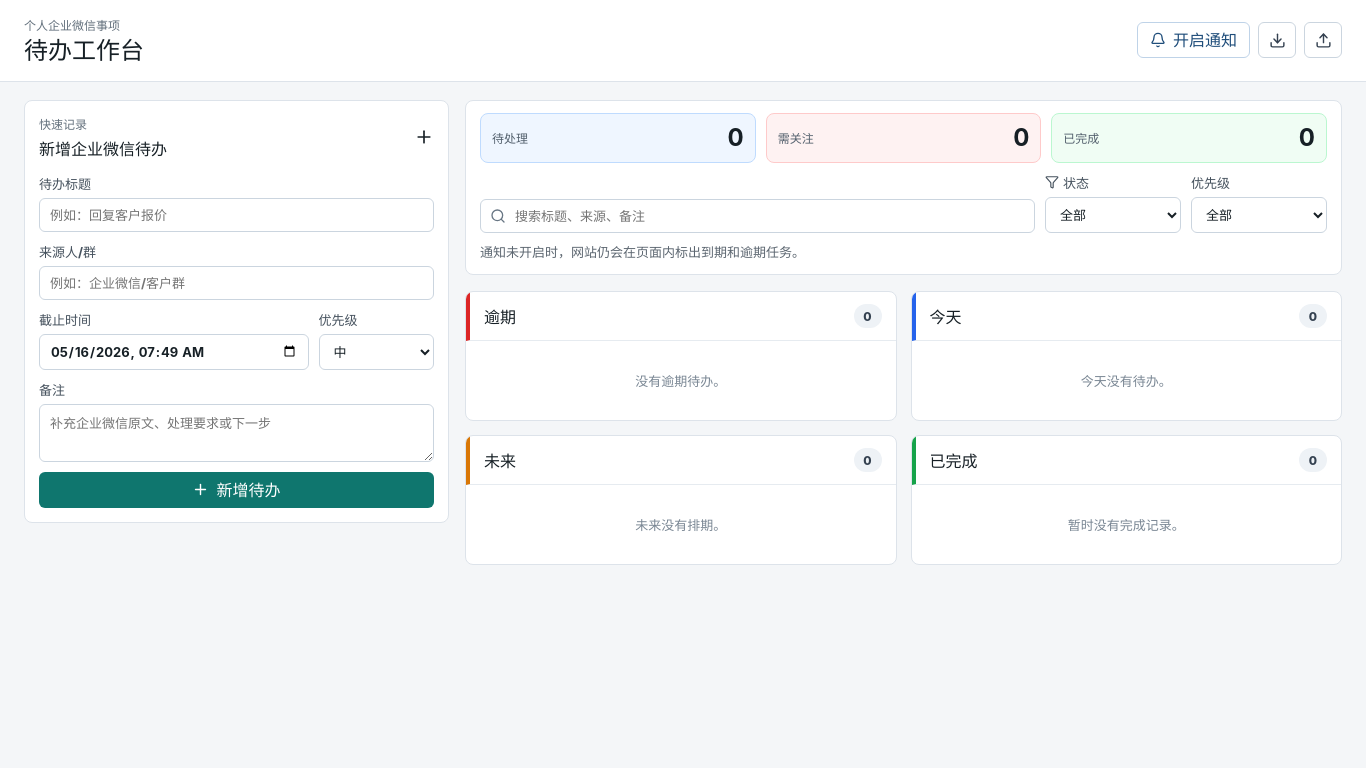
App › opens browser notification setting guidance after permission is denied
This screenshot has width=1366, height=768.
Click the button "开启通知" at (1194, 40), box [1137, 22, 1250, 58]
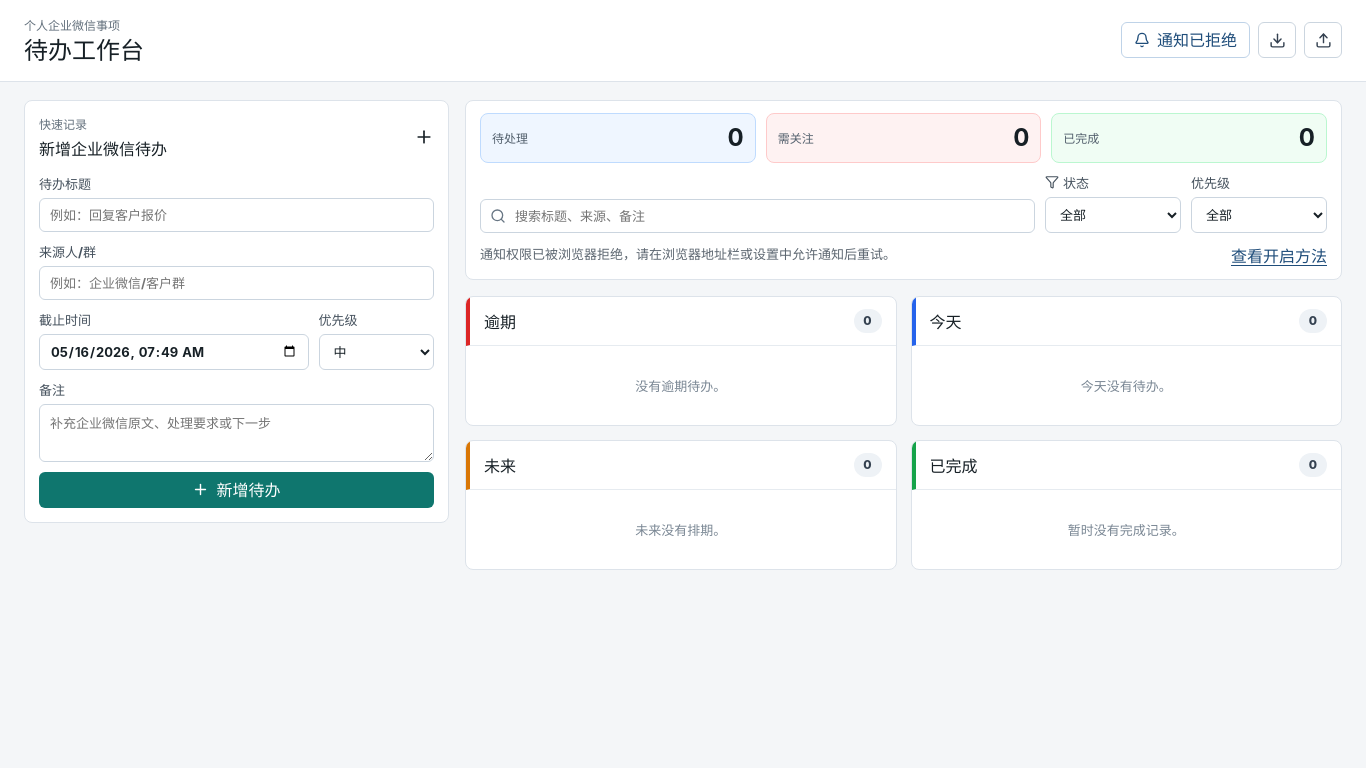
Click the button "查看开启方法" at (1279, 255), box [1231, 243, 1327, 267]
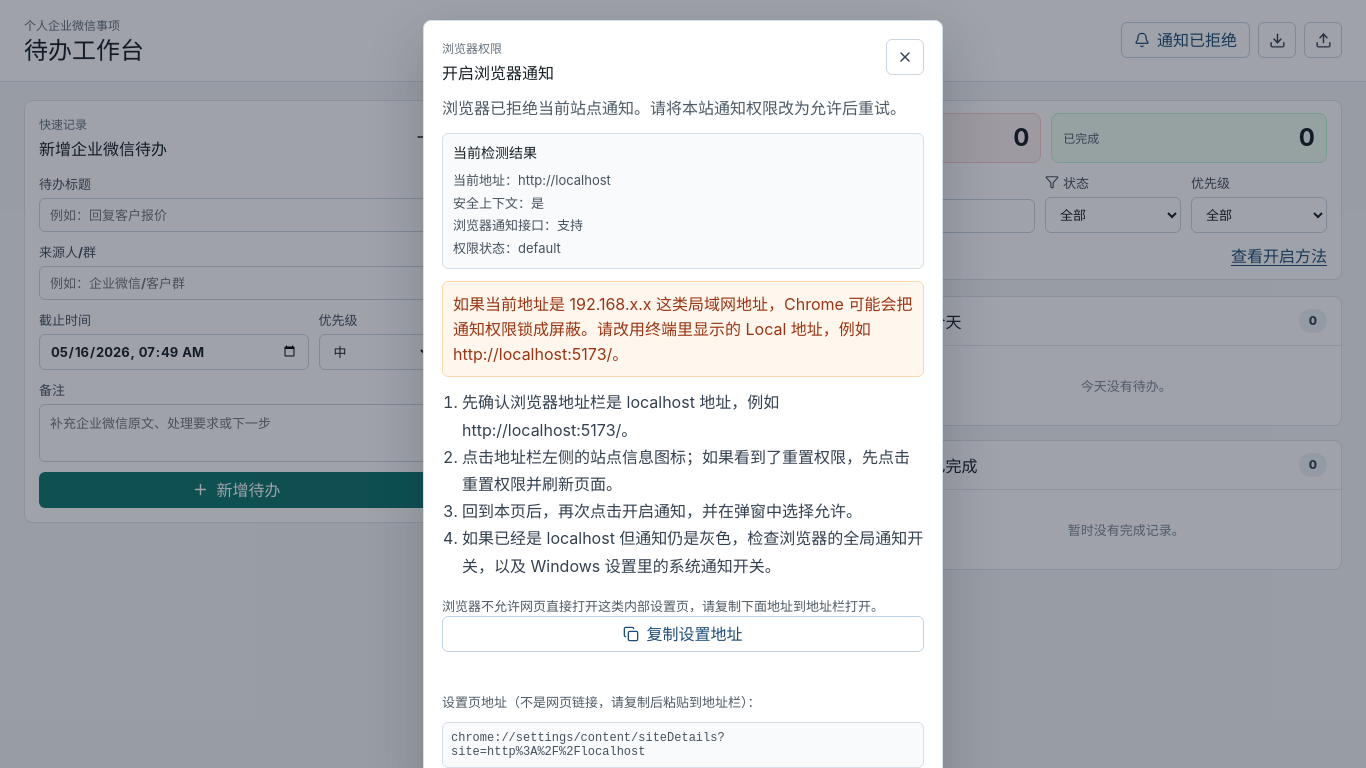
Now the text "浏览器不允许网页直接打开这类内部设置页，请复制下面地址到地址栏打开。" is shown, box [442, 596, 924, 616]
Now the text "如果当前地址是 192.168.x.x 这类局域网地址，Chrome 可能会把通知权限锁成屏蔽。请改用终端里显示的 Local 地址，例如 http://localhost:5173/。" is shown, box [453, 294, 912, 364]
Now the text "设置页地址（不是网页链接，请复制后粘贴到地址栏）：" is shown, box [442, 694, 760, 710]
Click the button "复制设置地址" at (683, 634), box [442, 616, 924, 652]
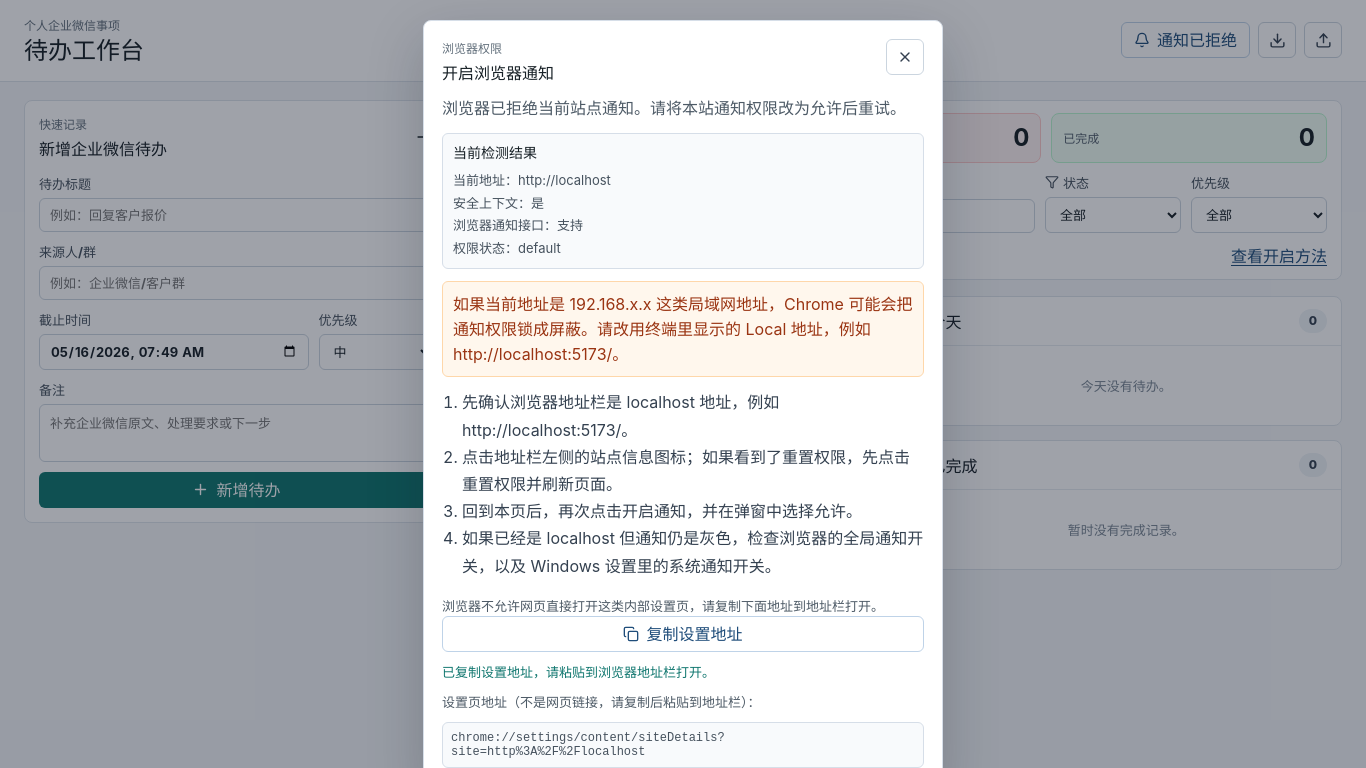
Now the text "已复制设置地址，请粘贴到浏览器地址栏打开。" is shown, box [442, 664, 715, 680]
Click the button named "关闭开启方法" at (905, 57), box [886, 39, 924, 75]
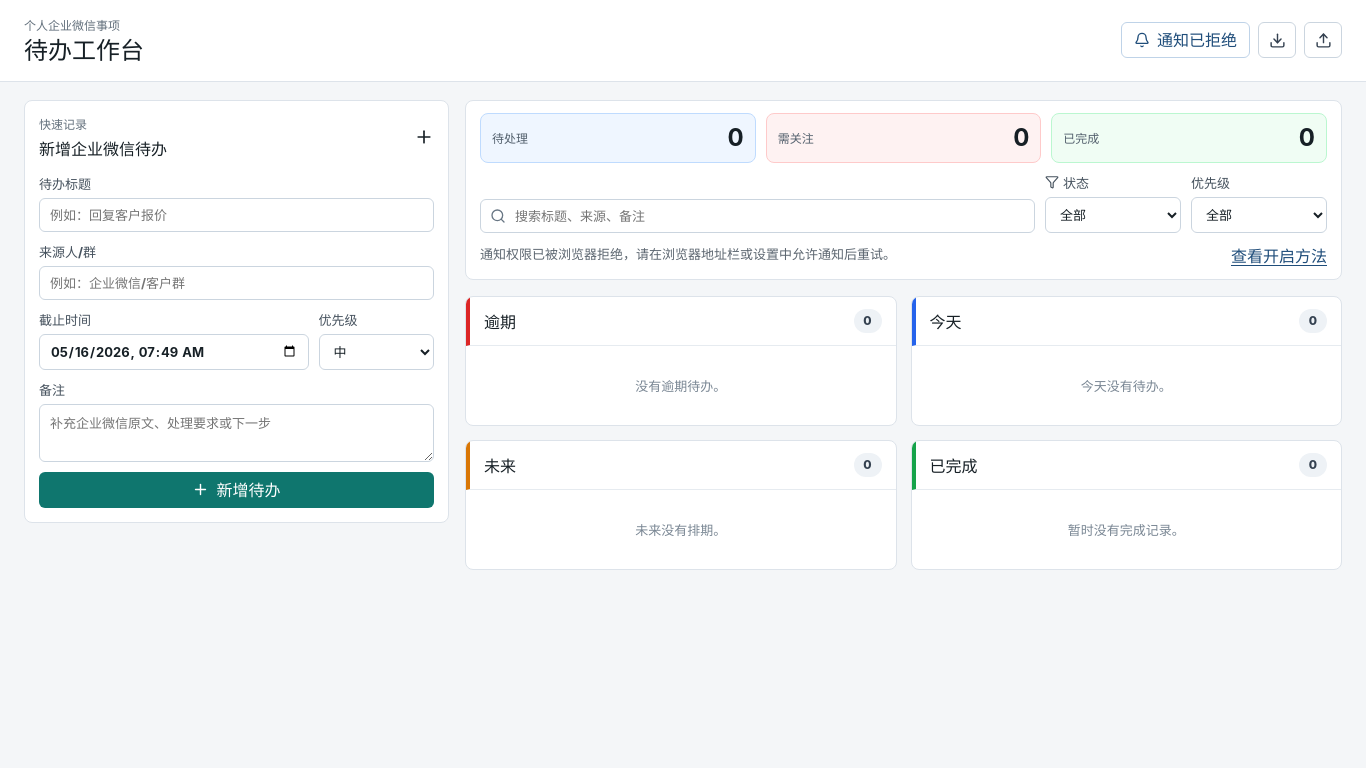
Now the heading "开启浏览器通知" is gone
